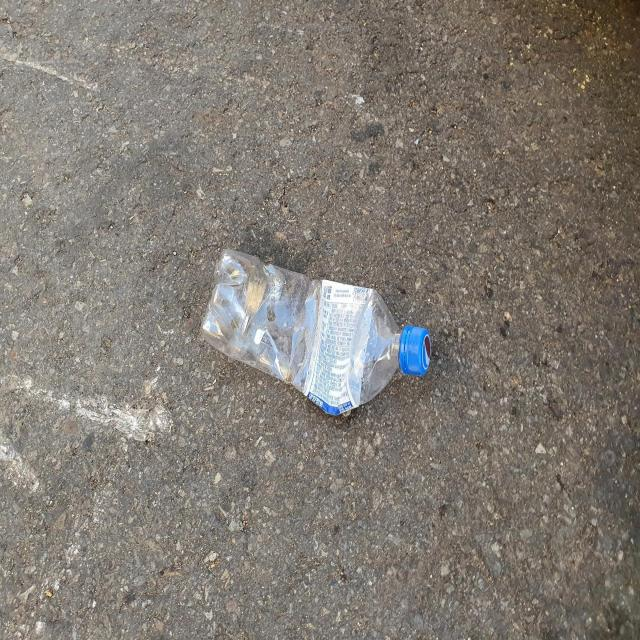plastic: (200, 249, 431, 416)
